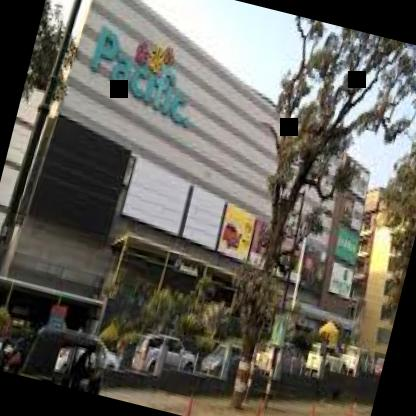car: (14, 309, 119, 396), (124, 324, 204, 396), (200, 331, 254, 394)
